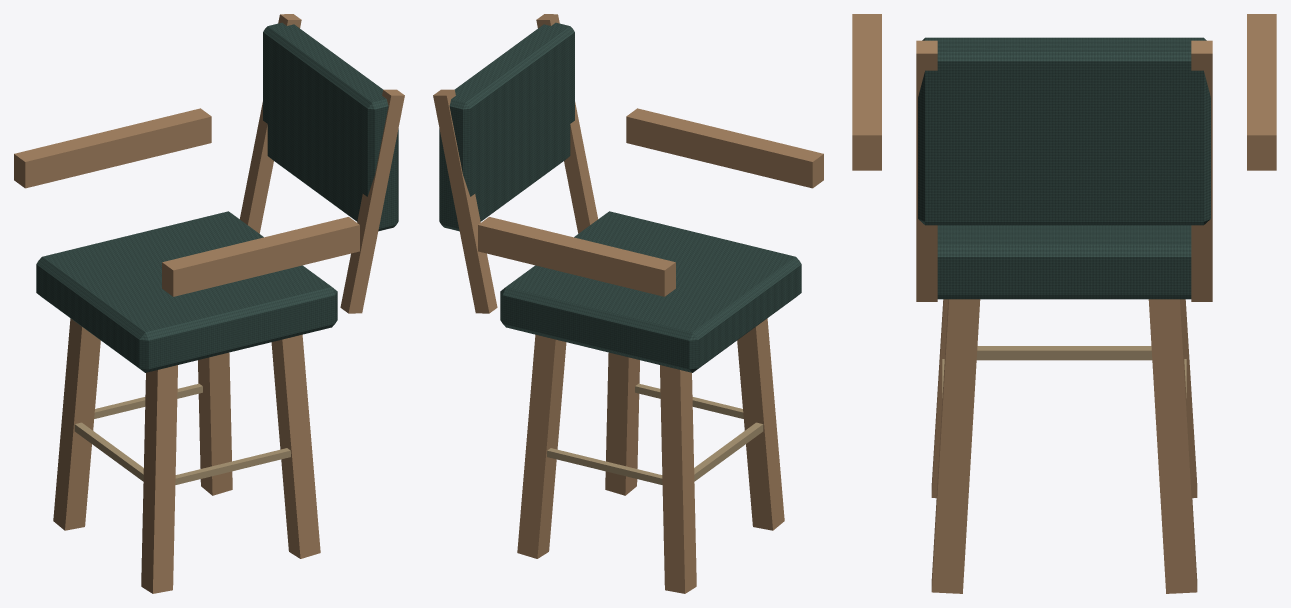
Rendered from yokocho-listening-chair.glb.
The picture shows the model from 3 angles, left to right: view 1: azimuth 30°, elevation 25°; view 2: azimuth 150°, elevation 25°; view 3: azimuth 270°, elevation 25°; orthographic projection. The views are drawn at different scales.
Parts seen in each view (by area): view 1: Shops/S07/Personality/Seating/1_listening__Night_Walnut, Shops/S07/Personality/Seating/1_listening__Night_IndigoUphol, Shops/S07/Personality/Seating/1_listening__Bronze; view 2: Shops/S07/Personality/Seating/1_listening__Night_Walnut, Shops/S07/Personality/Seating/1_listening__Night_IndigoUphol, Shops/S07/Personality/Seating/1_listening__Bronze; view 3: Shops/S07/Personality/Seating/1_listening__Night_IndigoUphol, Shops/S07/Personality/Seating/1_listening__Night_Walnut, Shops/S07/Personality/Seating/1_listening__Bronze.
Part boxes in pixels (x1,y1,x2,y2): Shops/S07/Personality/Seating/1_listening__Night_Walnut: (14,14,404,593); Shops/S07/Personality/Seating/1_listening__Night_IndigoUphol: (36,22,398,372); Shops/S07/Personality/Seating/1_listening__Bronze: (74,383,290,484); Shops/S07/Personality/Seating/1_listening__Night_Walnut: (433,14,823,593); Shops/S07/Personality/Seating/1_listening__Night_IndigoUphol: (439,22,801,372); Shops/S07/Personality/Seating/1_listening__Bronze: (547,383,763,484); Shops/S07/Personality/Seating/1_listening__Night_IndigoUphol: (918,37,1210,299); Shops/S07/Personality/Seating/1_listening__Night_Walnut: (852,14,1276,593); Shops/S07/Personality/Seating/1_listening__Bronze: (942,346,1186,397).
Bounding box in the file's own units: 0.6726 × 1.1 × 0.71.
Materials: 3 (1 with a texture image).
